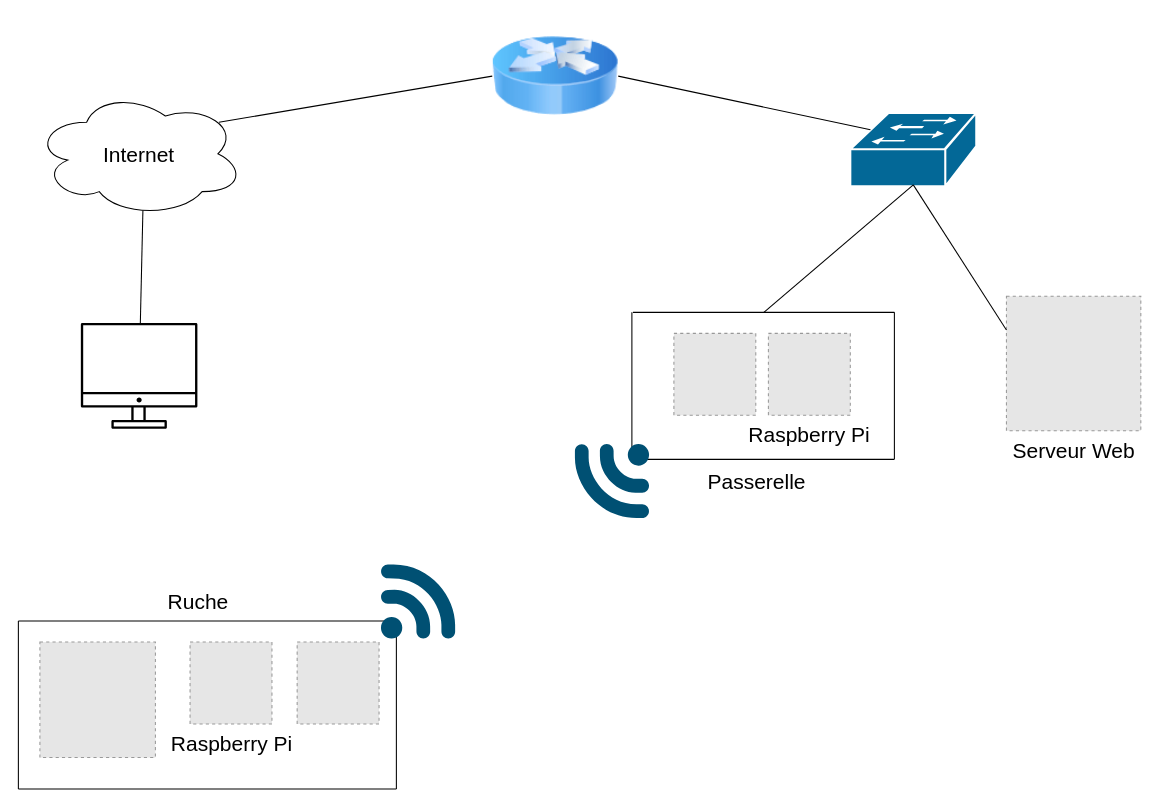
This 1159x808 diagram has some shape labels left out. Grey dashed boxes stand in for pictures. Here are the shapes that lost their labels. From the top down, the centre of each, then its label:
At point (555, 75): "DMZ".
At point (138, 375): "PC Client".
